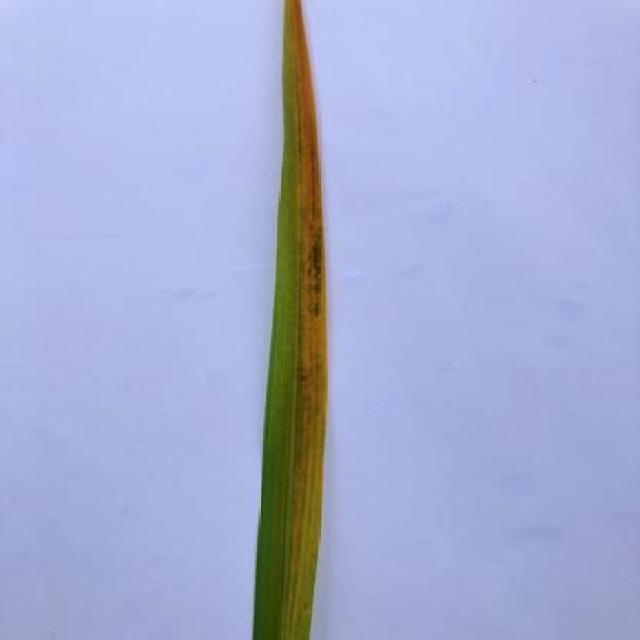Rice False Smut: (253, 0, 328, 639)
